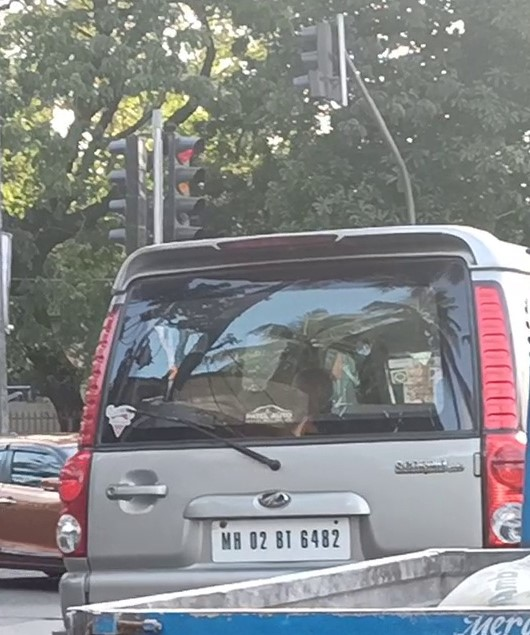MH02BT6482: (209, 516, 353, 563)
